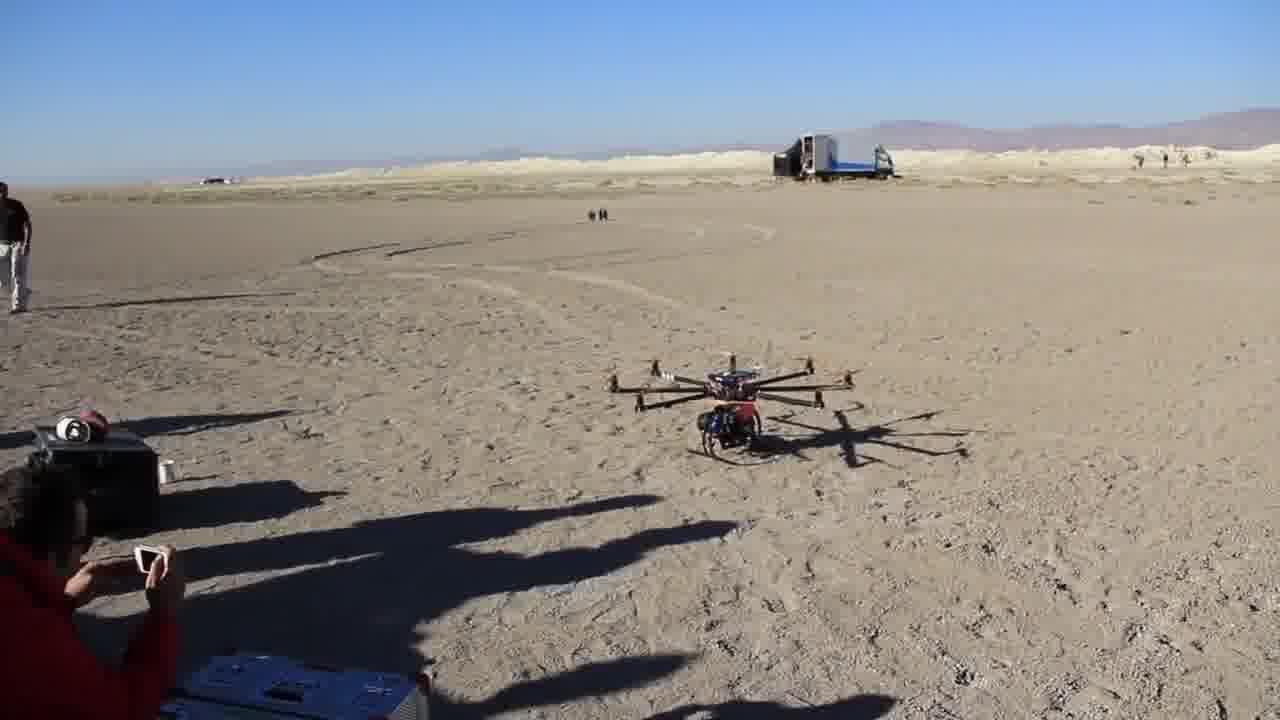drone: (609, 327, 853, 456)
